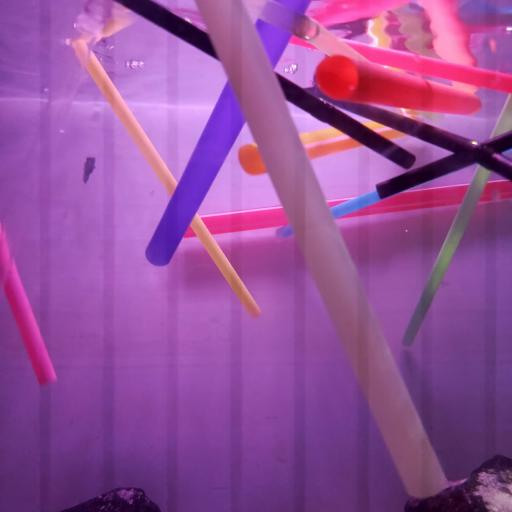plastic_straw: (194, 0, 450, 499), (72, 39, 263, 319), (115, 0, 416, 170), (143, 0, 312, 266), (400, 91, 512, 348), (182, 177, 512, 235), (288, 34, 512, 99), (236, 109, 422, 177), (315, 55, 482, 116), (376, 128, 512, 200), (0, 226, 58, 387), (243, 0, 370, 65), (275, 186, 377, 241)
